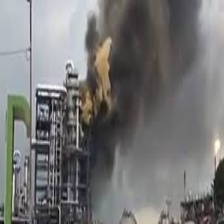smoke: (93, 1, 195, 173)
